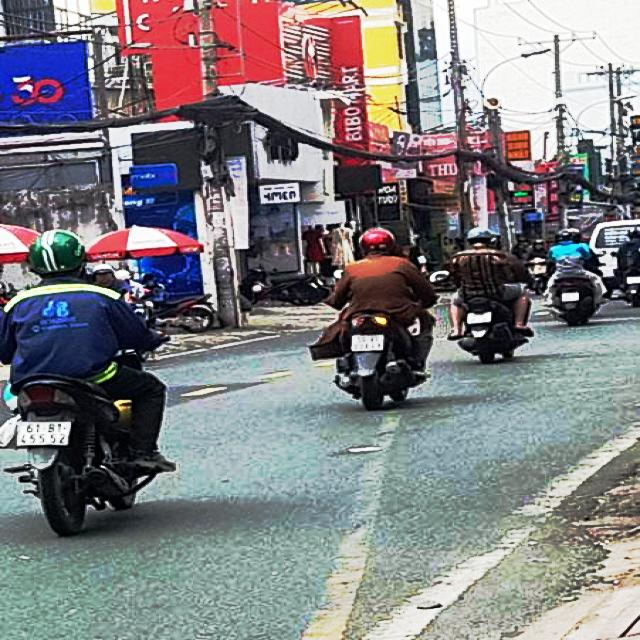license_plate: (17, 423, 72, 445)
